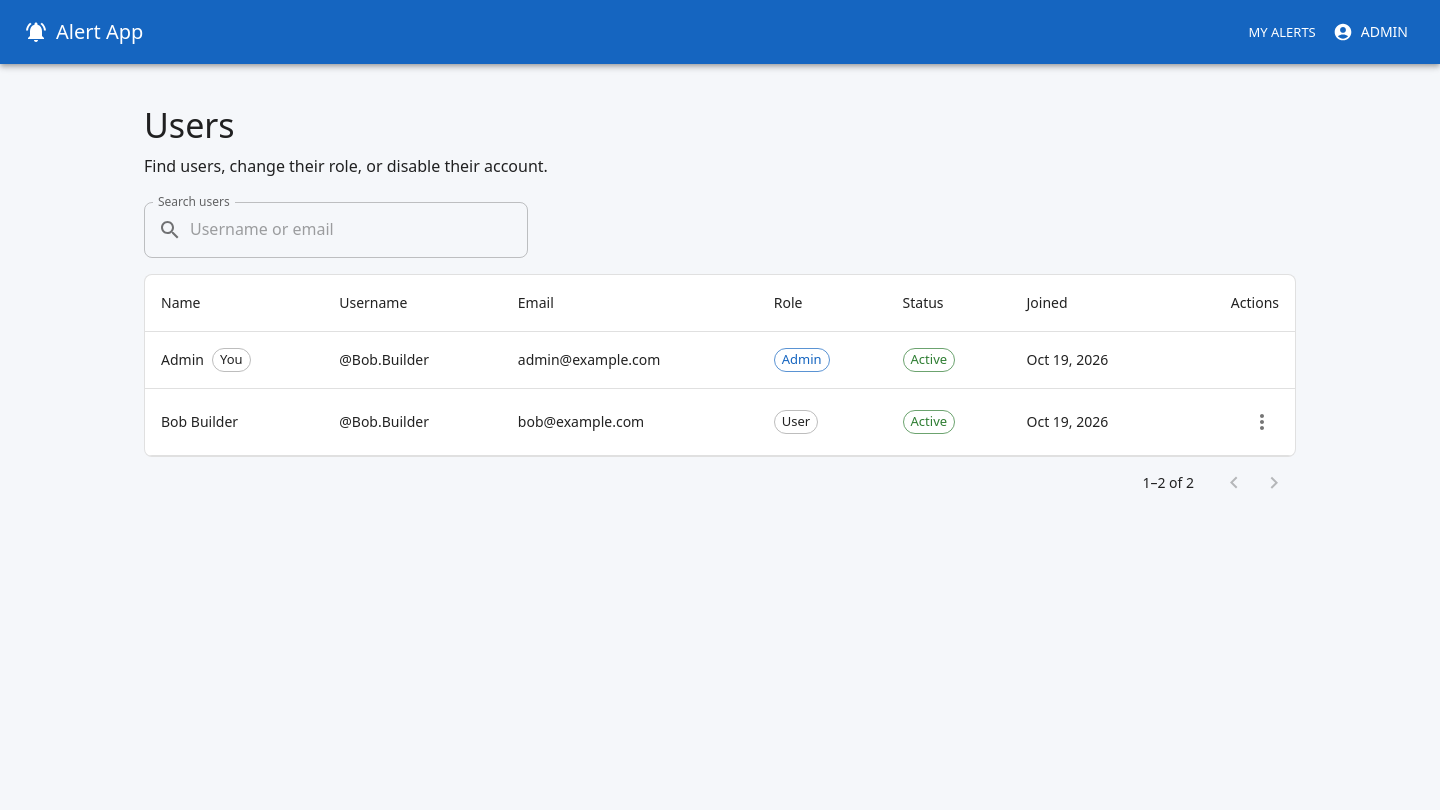
Test: AdminUsersPage › shows the server's message when a change fails
This screenshot has width=1440, height=810.
Click the button named "Actions for Bob Builder".
click(1262, 422)  # box 1245,405 -> 1279,439
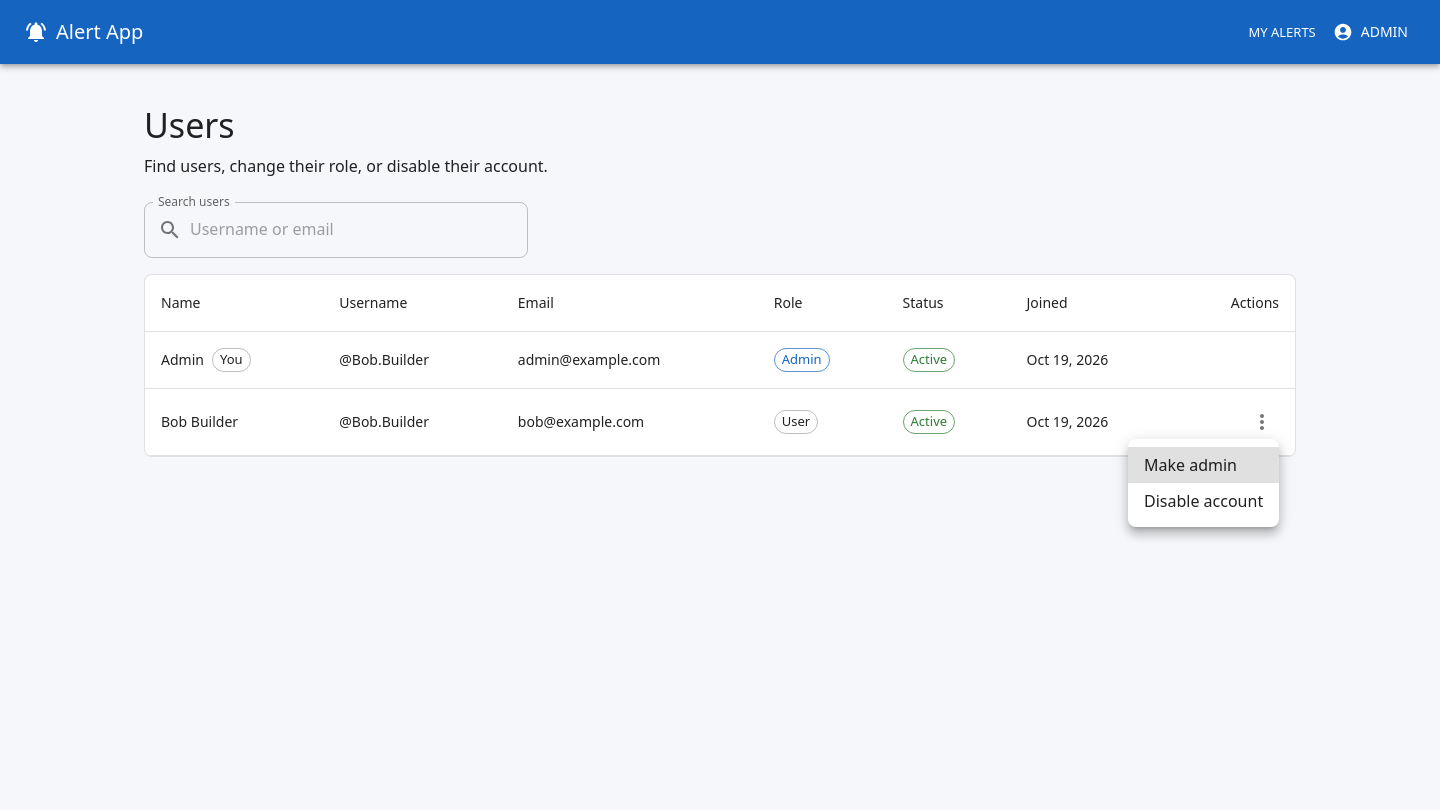
Click the menu item "Make admin".
click(1204, 465)  # box 1128,447 -> 1279,483
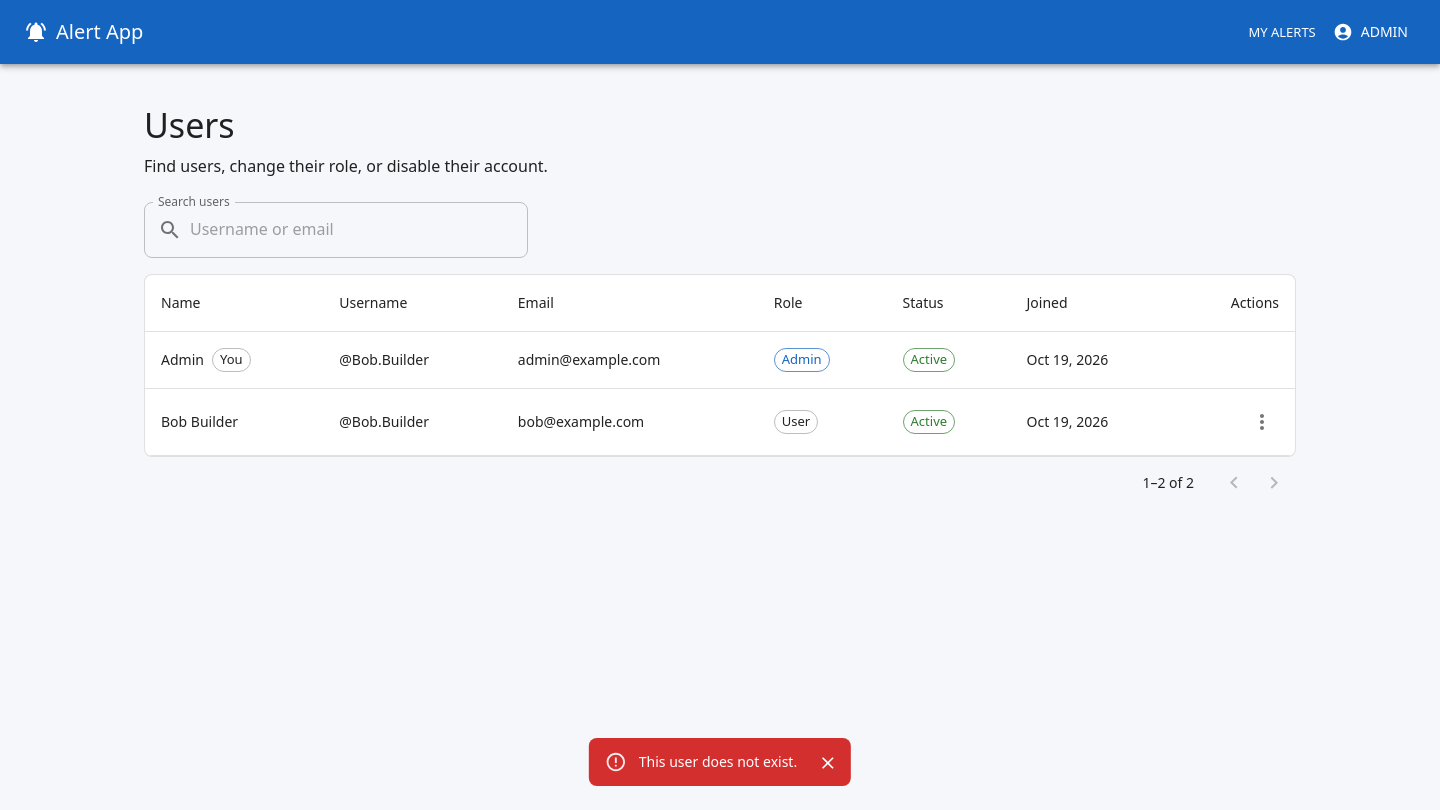
Now the text "This user does not exist." is shown, box 639,752 -> 797,771
